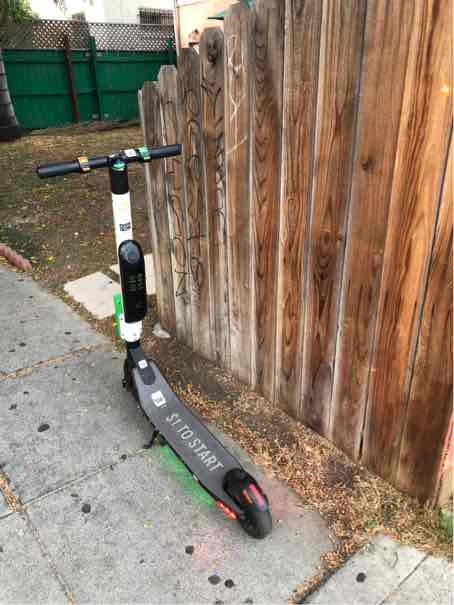scooter: (33, 140, 280, 540)
